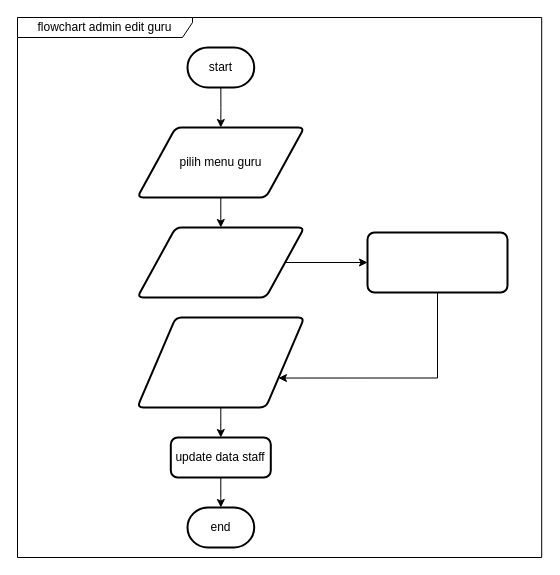
Some shapes in this 560 by 575 pixel diagram are drawn without their labels. The shapes that lost their labels are listed below. From the top down, each one's box as (x1, y1, x2, y2) in pixels, then its label:
(136, 226, 305, 298): Edit guru
(366, 231, 508, 293): get staff by id_staff
(136, 316, 305, 408): Input : nip,nama, jeniskelamin, username dan password
